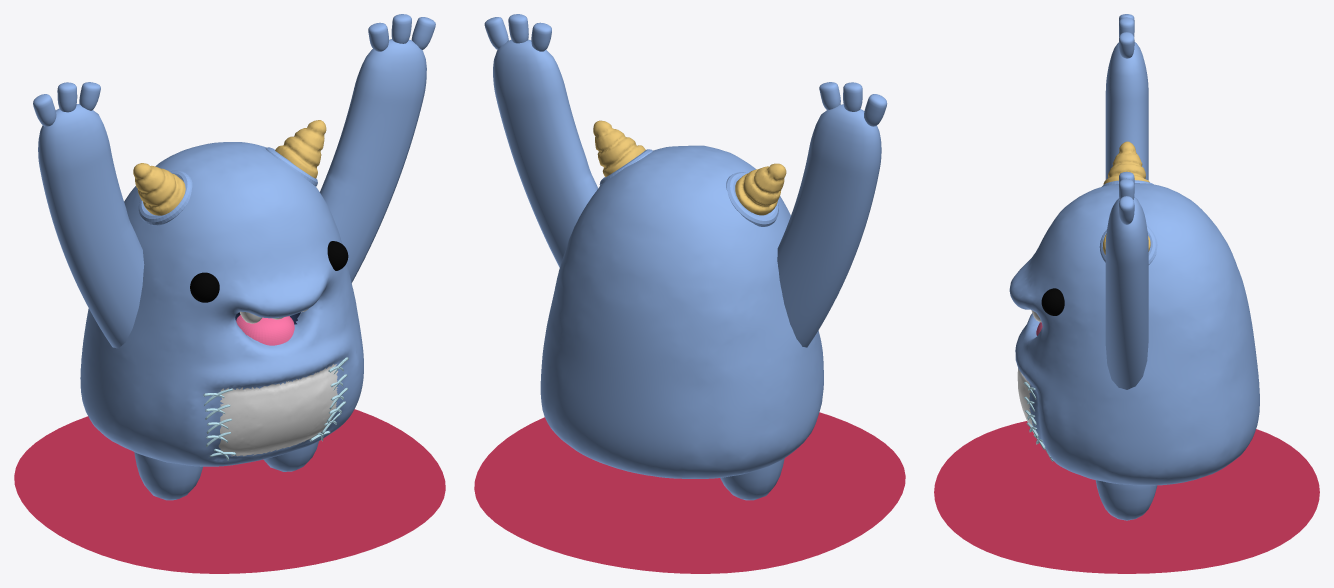
File: monstruo_peluche.glb
The picture shows the model from 3 angles, left to right: view 1: azimuth 30°, elevation 25°; view 2: azimuth 150°, elevation 25°; view 3: azimuth 270°, elevation 25°; orthographic projection. The views are drawn at different scales.
Parts seen in each view (by area): view 1: Cube.007, Plane, Cube.005, Cube.006, Cube.004, NurbsPath.009, Sphere, Cube.011, Torus.001; view 2: Cube.007, Plane, Cube.005, Cube.006, Cube.004, Torus.001; view 3: Cube.007, Plane, Cube.005, Cube.004, Cube.006, Sphere.
Part boxes in pixels (left/top/right/bottom): Cube.007: left=80, top=142, right=363, bottom=466; Plane: left=14, top=409, right=445, bottom=573; Cube.005: left=33, top=14, right=435, bottom=348; Cube.006: left=133, top=120, right=326, bottom=215; Cube.004: left=134, top=441, right=318, bottom=500; NurbsPath.009: left=203, top=357, right=348, bottom=460; Sphere: left=190, top=241, right=348, bottom=302; Cube.011: left=236, top=315, right=294, bottom=345; Torus.001: left=138, top=170, right=192, bottom=225; Cube.007: left=540, top=145, right=823, bottom=478; Plane: left=474, top=412, right=905, bottom=573; Cube.005: left=484, top=14, right=887, bottom=347; Cube.006: left=593, top=120, right=786, bottom=215; Cube.004: left=720, top=458, right=784, bottom=500; Torus.001: left=726, top=172, right=778, bottom=226; Cube.007: left=1009, top=183, right=1259, bottom=485; Plane: left=934, top=421, right=1319, bottom=573; Cube.005: left=1105, top=14, right=1148, bottom=389; Cube.004: left=1095, top=480, right=1157, bottom=520; Cube.006: left=1103, top=141, right=1150, bottom=254; Sphere: left=1041, top=288, right=1064, bottom=315.
Size of the model in its own units: 1.04 by 1.09 by 0.9533.
